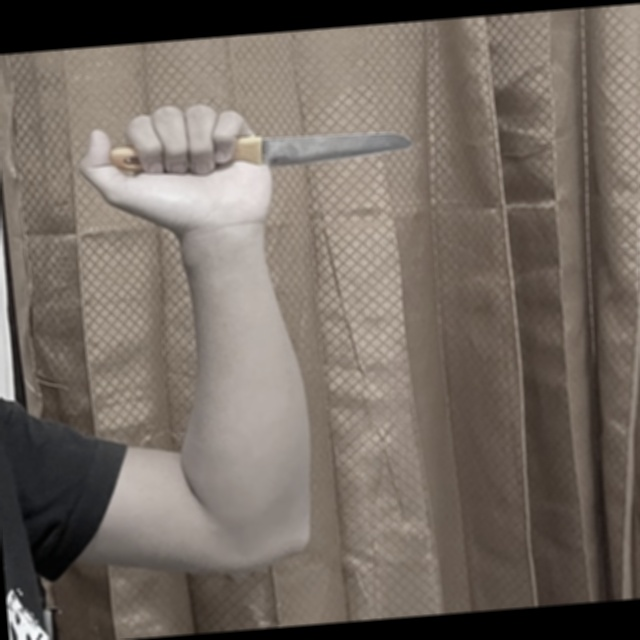Sharp-Object: (107, 120, 415, 183)
